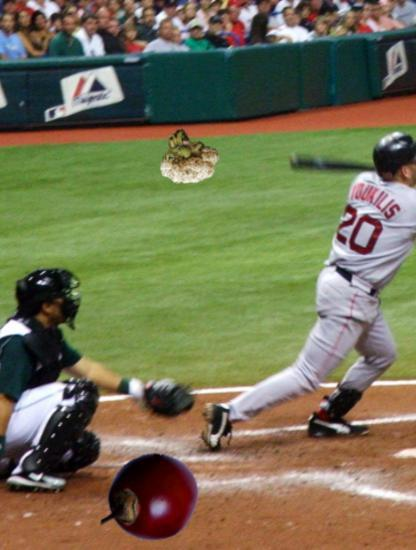Cauliflower: (156, 125, 219, 188)
Tamarillo: (102, 448, 200, 546)
